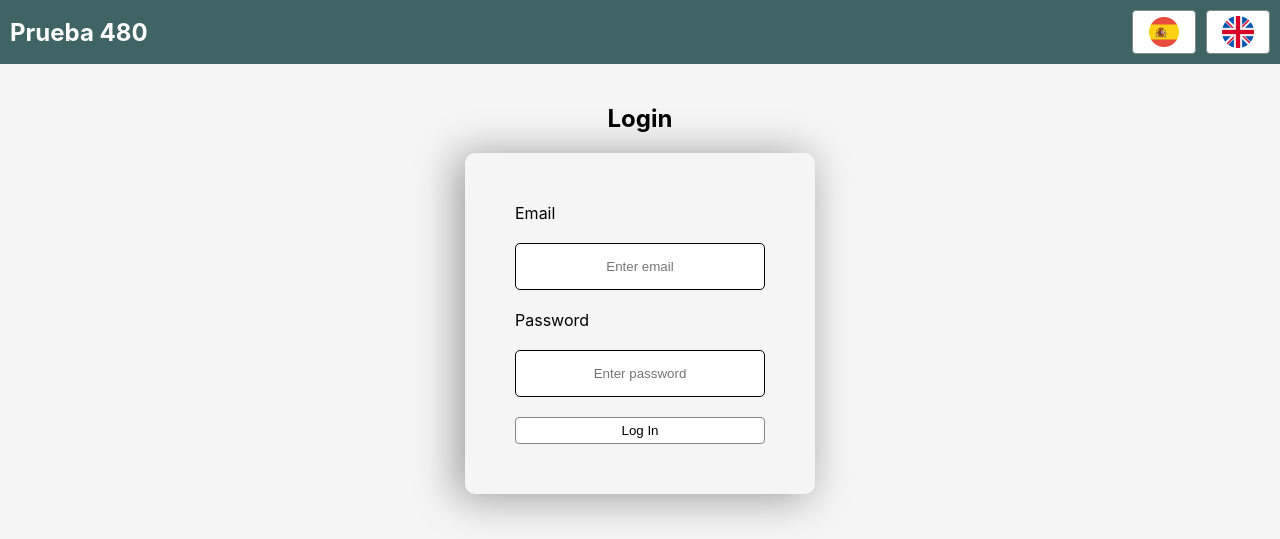
Scenario: Weather List › Should show the correct text when the user does not clicks on a city
The image size is (1280, 539).
Expected: the heading "Login" is shown, [608,104,672,133]
Type "prueba@email.com" into the field labelled "Email". click: (640, 266)
box: [515,243,765,290]
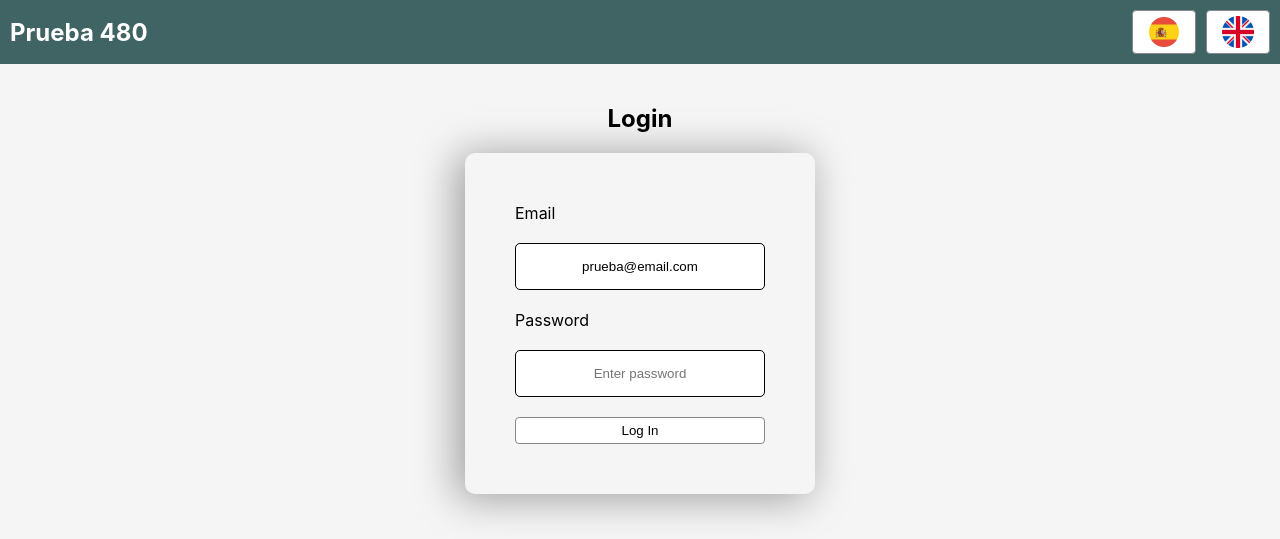
Type "******" into the password field labelled "Password". click: (640, 374)
box: [515,350,765,397]
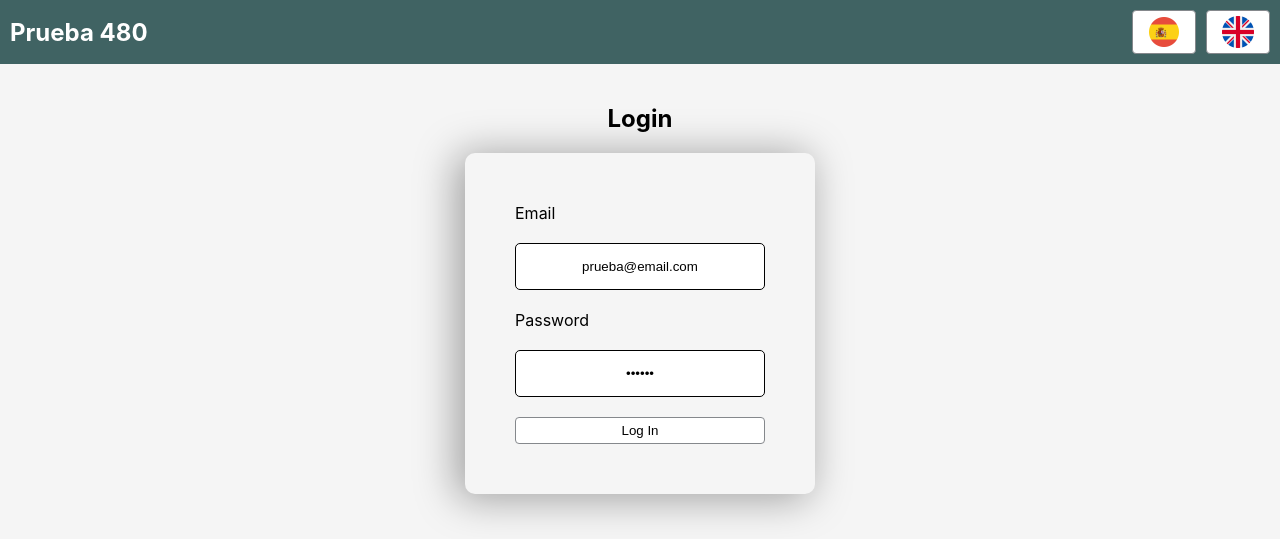
Click the button "Log In". click: (640, 430)
box: [515,417,765,444]
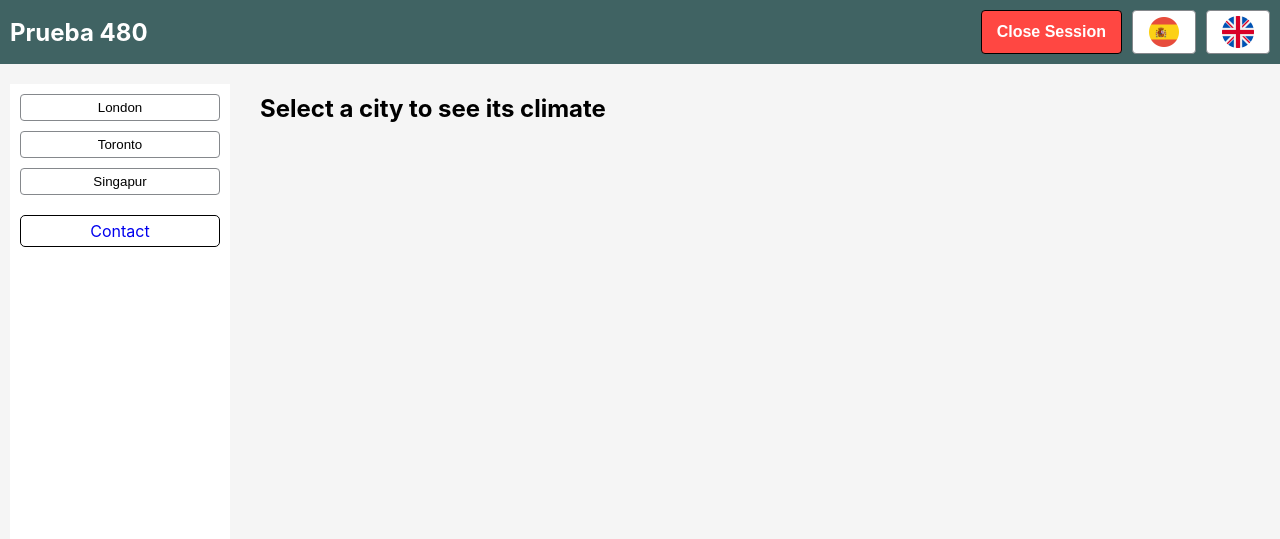
Result: the heading "Select a city to see its climate" is shown at [260,94,606,123]
